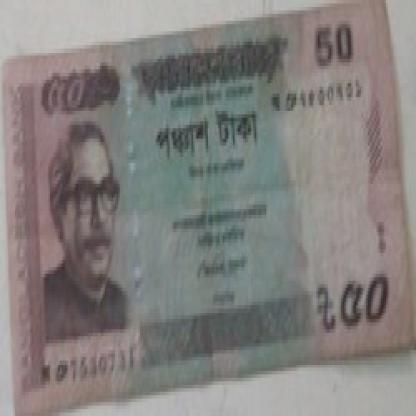Fifty taka: (323, 267, 401, 343), (35, 59, 110, 125)
